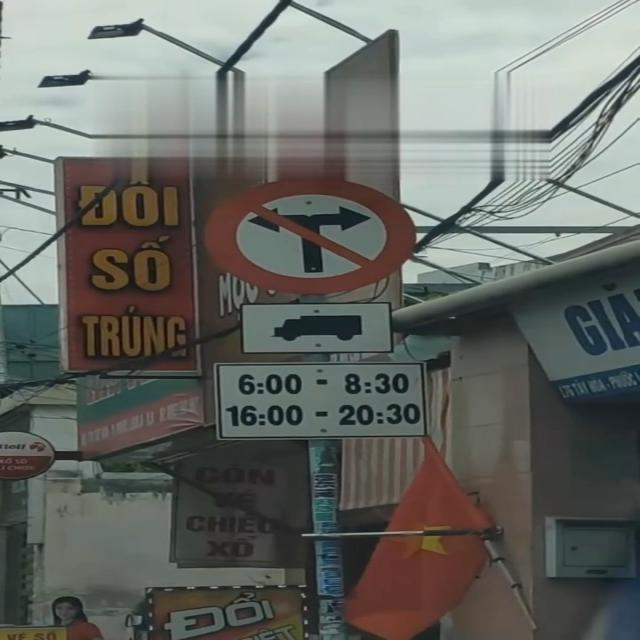137-cam-re-trai-va-re-phai: (198, 166, 414, 292)
